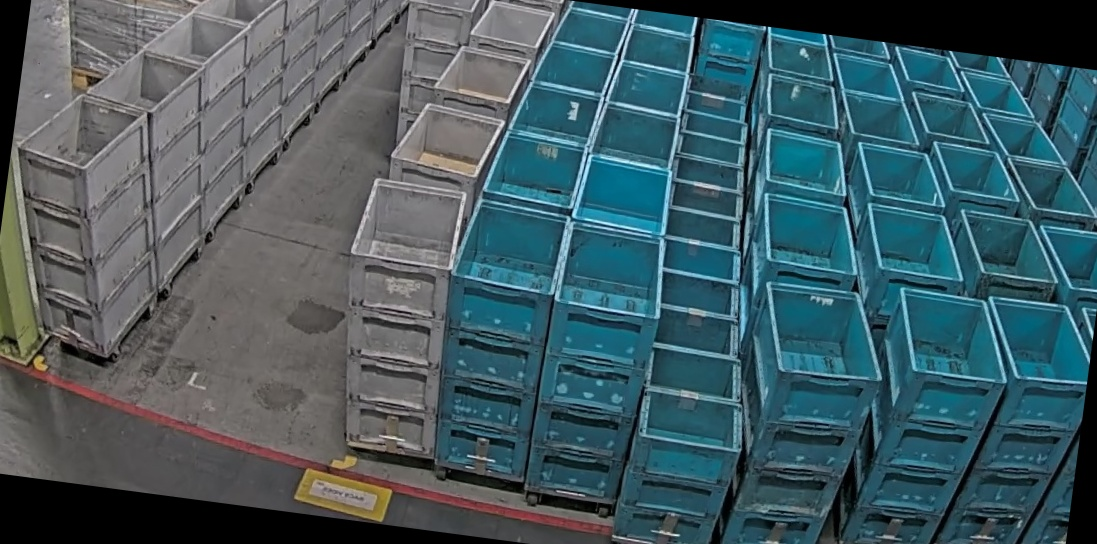4G: (0, 85, 182, 365), (324, 176, 469, 458)
B4: (829, 277, 1016, 544), (715, 278, 894, 544), (526, 221, 673, 505), (934, 293, 1097, 544), (426, 197, 570, 481)
B8: (611, 340, 756, 544)
